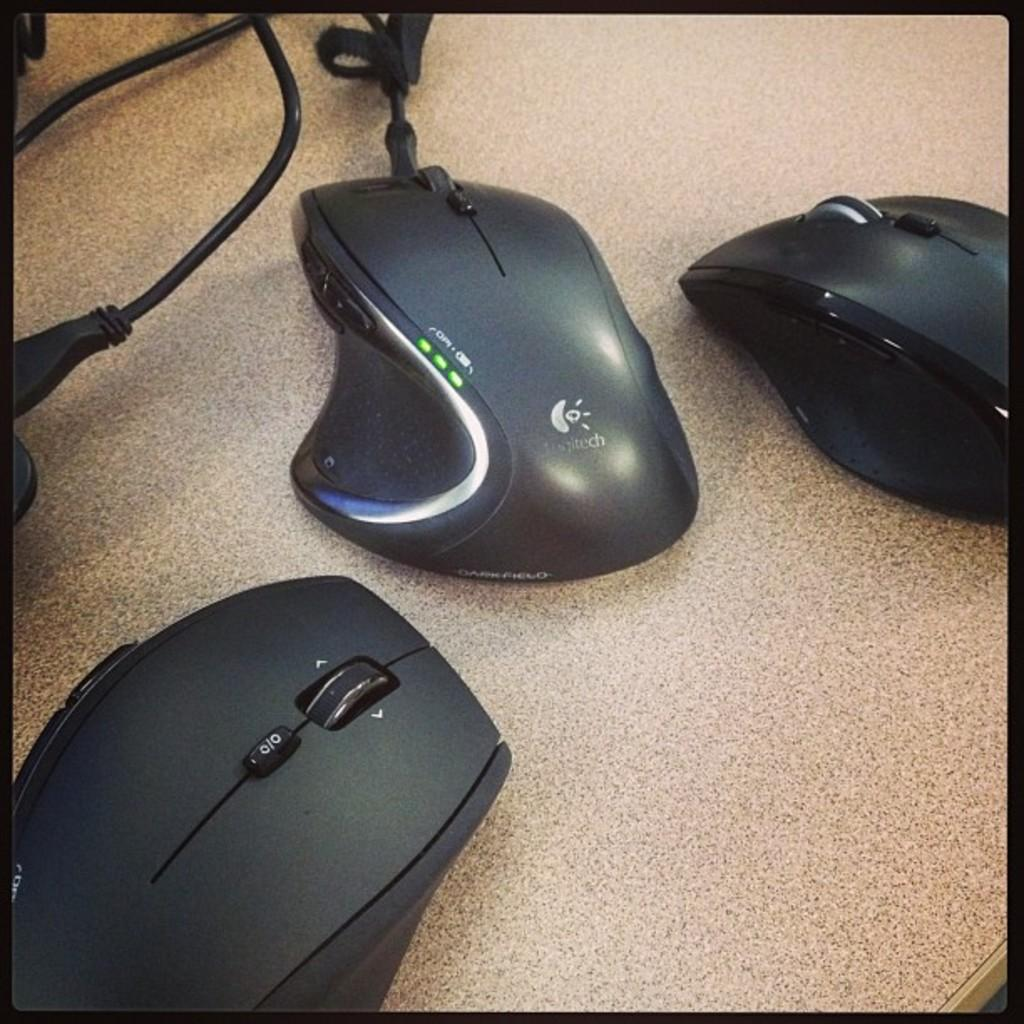Computer-mouse: (0, 571, 520, 1022), (296, 144, 706, 581), (679, 184, 1009, 529)
